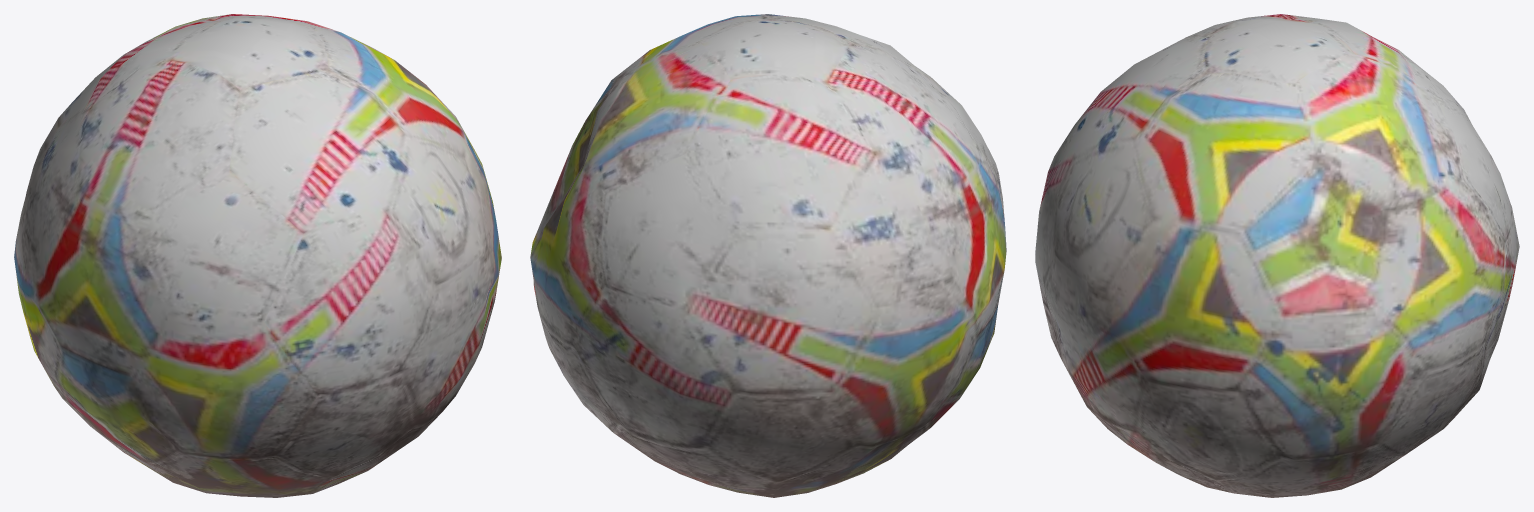
The model's file is football-worn.glb.
3 renders of one model, left to right at view 1: azimuth 30°, elevation 25°; view 2: azimuth 150°, elevation 25°; view 3: azimuth 270°, elevation 25°, orthographic.
Parts seen in each view (by area): view 1: ballon_lowpoly_UVs__0; view 2: ballon_lowpoly_UVs__0; view 3: ballon_lowpoly_UVs__0.
Boxes of the visible parts, <box> form: ballon_lowpoly_UVs__0: <box>14,14,501,497</box>; ballon_lowpoly_UVs__0: <box>530,14,1006,497</box>; ballon_lowpoly_UVs__0: <box>1035,14,1519,497</box>.
Bounding box in the file's own units: 0.2235 × 0.22 × 0.2233.
1 material, 1 textured.
